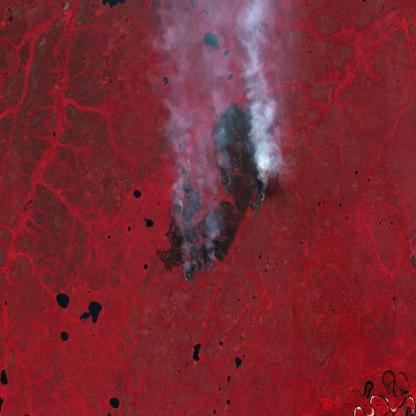fire: (166, 96, 269, 290)
